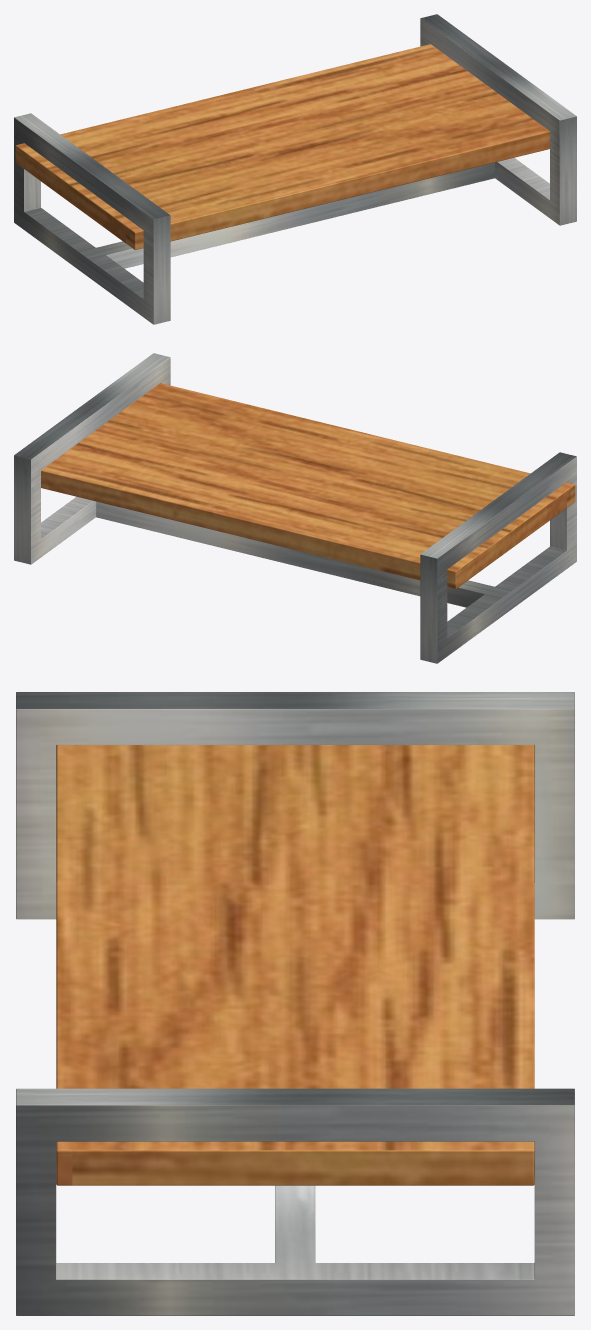
File: minitable.fbx
3 renders of one model, top to bottom at view 1: azimuth 30°, elevation 25°; view 2: azimuth 150°, elevation 25°; view 3: azimuth 270°, elevation 25°, orthographic. The views are drawn at different scales.
Parts seen in each view (by area): view 1: Top, Frame; view 2: Top, Frame; view 3: Top, Frame.
Boxes of the visible parts, left/top/right/bottom form: Top: left=15, top=44, right=549, bottom=250; Frame: left=14, top=14, right=576, bottom=324; Top: left=41, top=383, right=575, bottom=589; Frame: left=14, top=353, right=576, bottom=663; Top: left=56, top=745, right=534, bottom=1185; Frame: left=16, top=692, right=574, bottom=1315.
Size of the model in its own units: 75.3 by 17.2 by 41.34.
2 materials, 2 textured.
